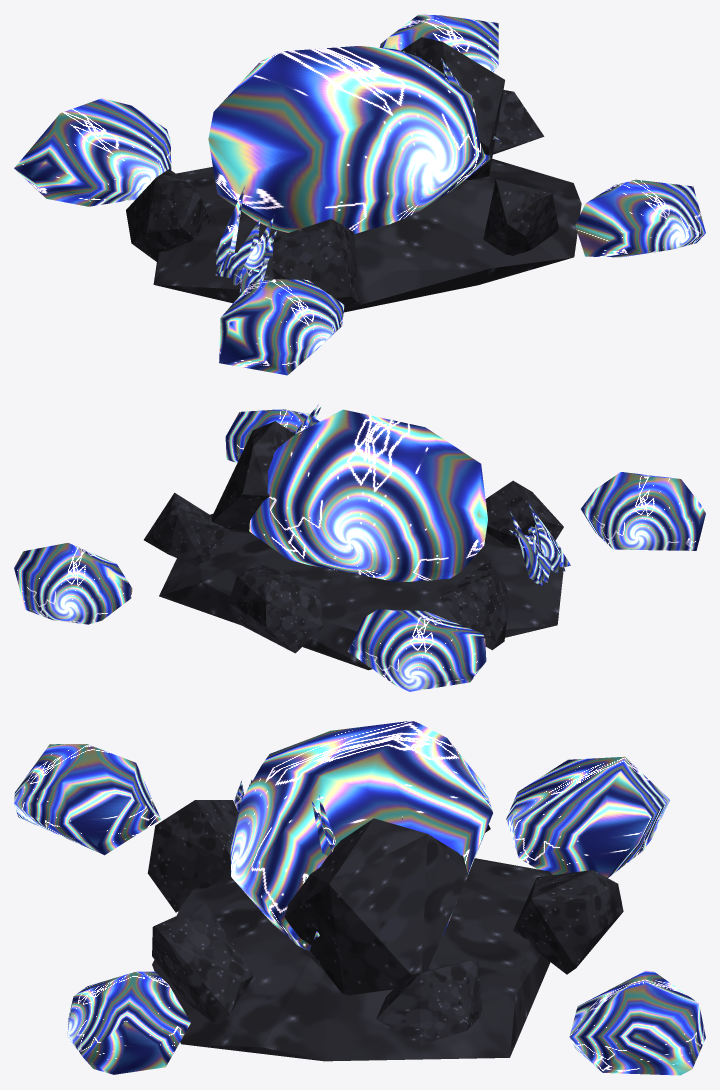
File: deposit_metal.glb
3 renders of one model, top to bottom at view 1: azimuth 30°, elevation 25°; view 2: azimuth 150°, elevation 25°; view 3: azimuth 270°, elevation 25°, orthographic. The views are drawn at different scales.
Parts seen in each view (by area): view 1: OreDeposit_opal; view 2: OreDeposit_opal; view 3: OreDeposit_opal.
Boxes of the visible parts, box(x1,y1,x2,y2) form: OreDeposit_opal: box(14, 14, 705, 375); OreDeposit_opal: box(14, 404, 705, 691); OreDeposit_opal: box(14, 720, 705, 1075).
Bounding box in the file's own units: 7.84 × 2.68 × 7.79.
Materials: 2 (2 with a texture image).
